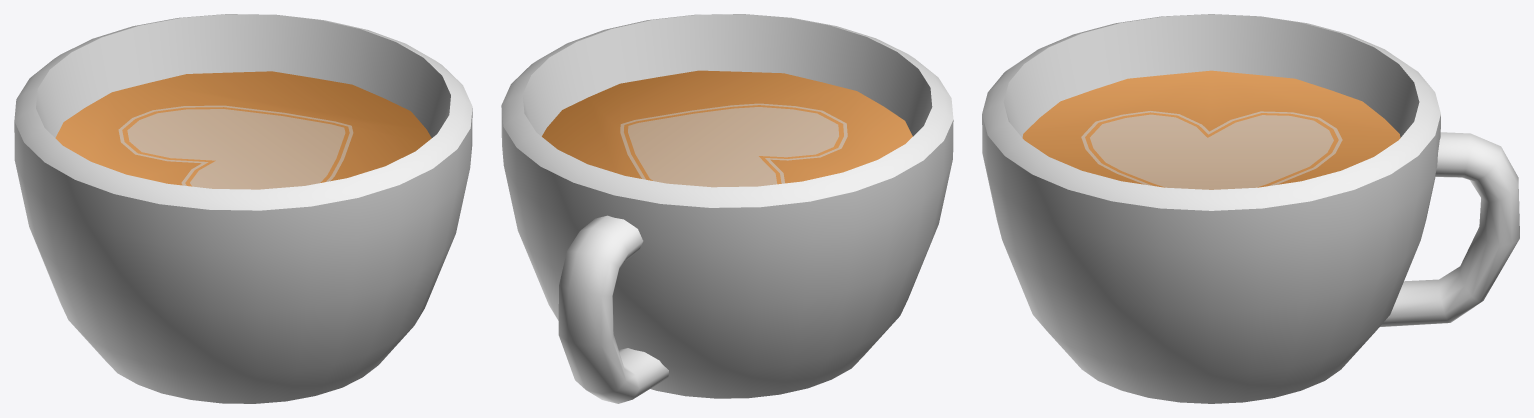
File: Cofe Cup Heart_3.fbx
The picture shows the model from 3 angles, left to right: view 1: azimuth 30°, elevation 25°; view 2: azimuth 150°, elevation 25°; view 3: azimuth 270°, elevation 25°; orthographic projection.
Visible parts, largest first — view 1: Cofe Cup Heart_3; view 2: Cofe Cup Heart_3; view 3: Cofe Cup Heart_3.
Boxes of the visible parts, x1,y1,x2,y2 form: Cofe Cup Heart_3: (14, 14, 472, 403); Cofe Cup Heart_3: (501, 14, 953, 403); Cofe Cup Heart_3: (982, 14, 1519, 403).
Size of the model in its own units: 0.1 by 0.0579 by 0.1172.
1 material, 1 textured.
